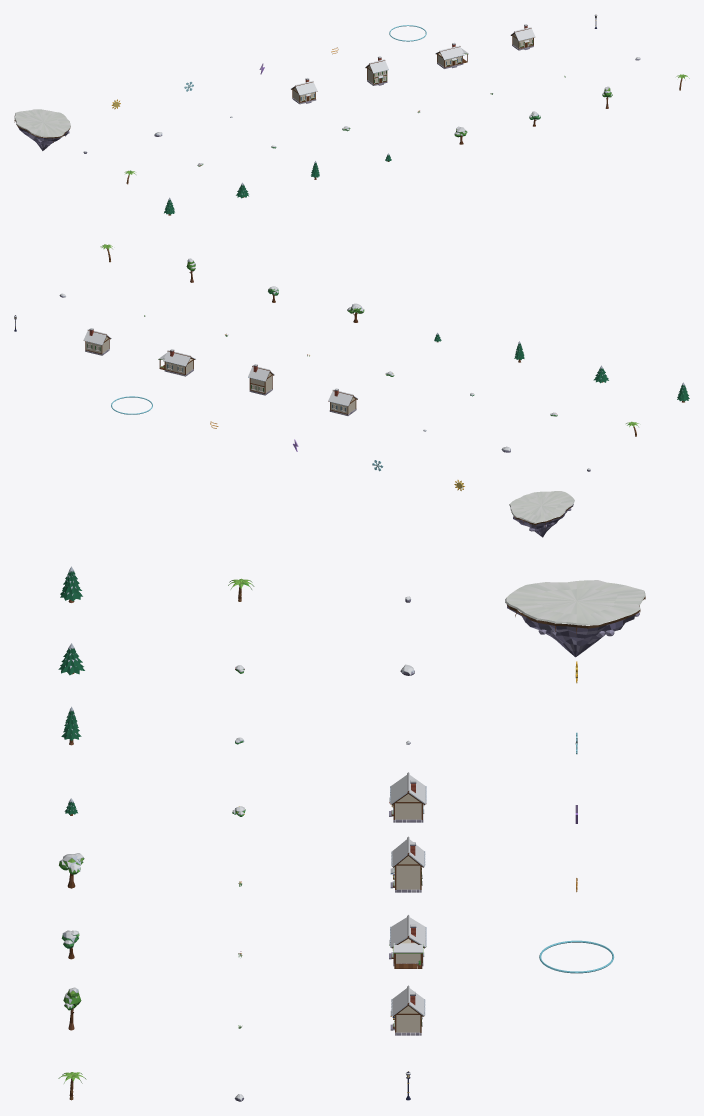
Rendered from PocketWeatherKit.glb.
3 renders of one model, top to bottom at view 1: azimuth 30°, elevation 25°; view 2: azimuth 150°, elevation 25°; view 3: azimuth 270°, elevation 25°, orthographic. The views are drawn at different scales.
Visible parts, largest first — view 1: PlotIsland__Top, PlotIsland__Cliff, House_C__Body, House_B__Body; view 2: PlotIsland__Top; view 3: PlotIsland__Top, PlotIsland__Cliff, House_C__Snow, House_B__Body, House_A__Body, House_D__Body.
Boxes of the visible parts, bbox=[...] form: PlotIsland__Top: bbox=[14, 109, 70, 137]; PlotIsland__Cliff: bbox=[14, 119, 70, 150]; House_C__Body: bbox=[436, 44, 468, 68]; House_B__Body: bbox=[366, 57, 387, 85]; PlotIsland__Top: bbox=[509, 491, 574, 523]; PlotIsland__Top: bbox=[505, 580, 645, 625]; PlotIsland__Cliff: bbox=[506, 596, 645, 657]; House_C__Snow: bbox=[389, 915, 426, 956]; House_B__Body: bbox=[390, 843, 423, 892]; House_A__Body: bbox=[389, 780, 426, 822]; House_D__Body: bbox=[390, 993, 423, 1035].
Size of the model in its own units: 445 by 40.74 by 210.
